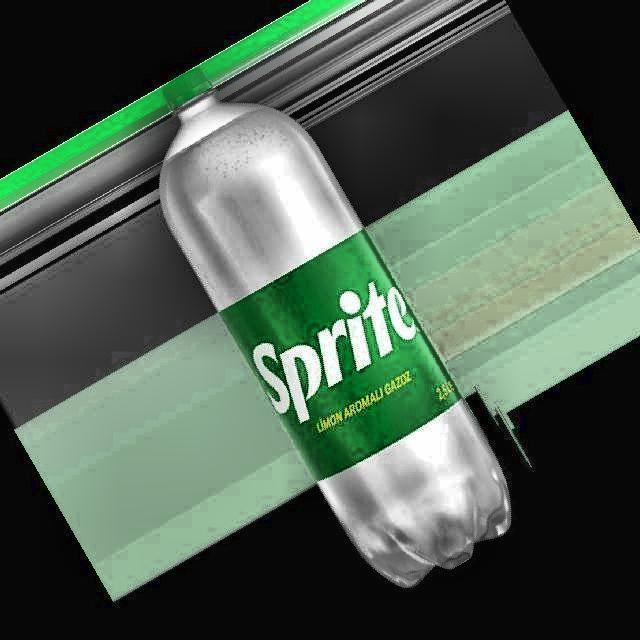plastic: (159, 67, 510, 586)
